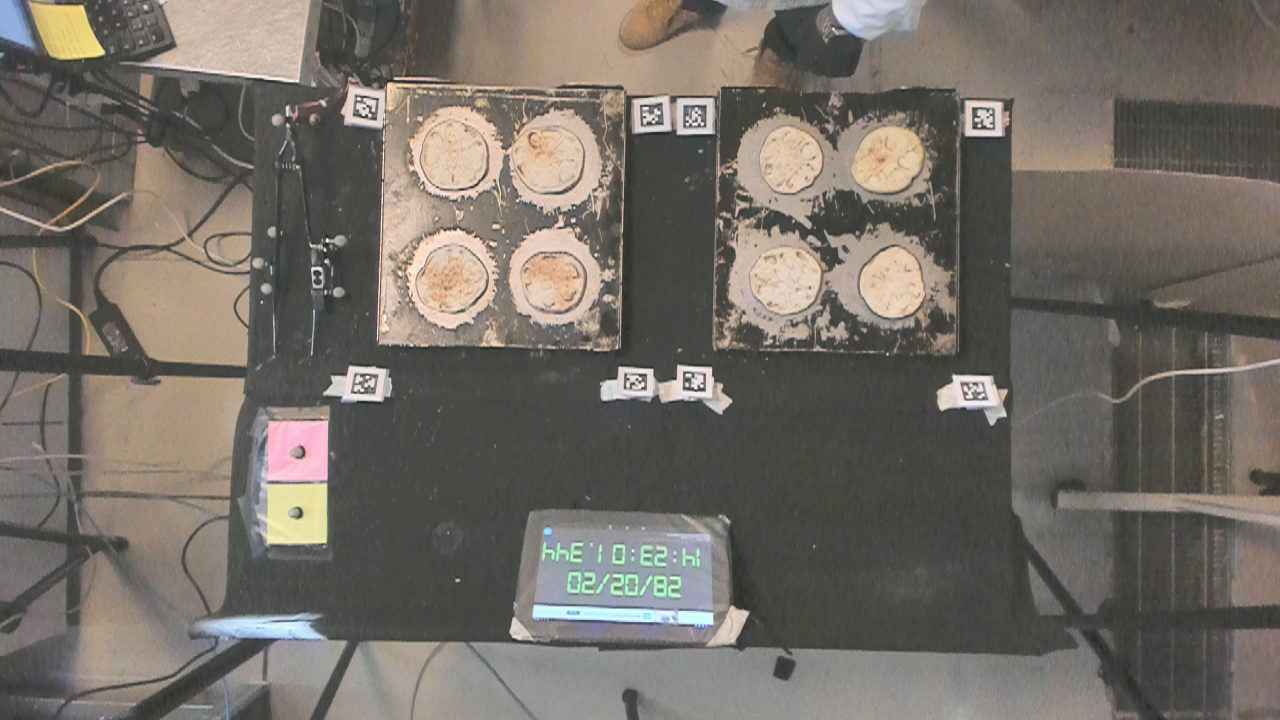eggplant: (511, 123, 587, 198), (750, 245, 827, 316), (419, 245, 495, 316), (420, 119, 493, 192), (862, 246, 929, 322), (853, 129, 923, 193), (762, 124, 824, 193), (520, 254, 589, 315)
marker: (267, 419, 329, 481)
